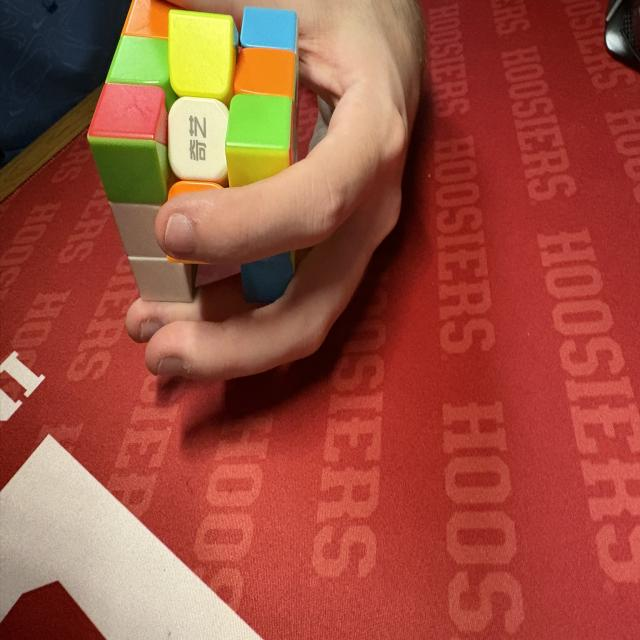Rubiks Cube: (88, 0, 298, 304)
